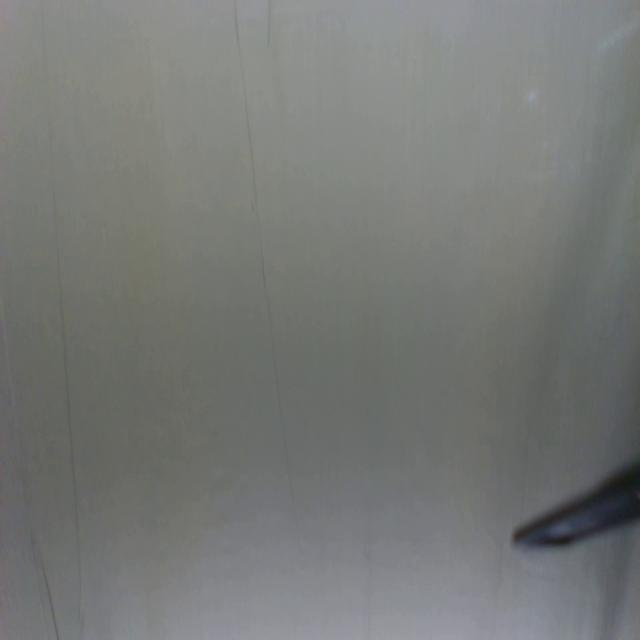crease: (232, 1, 300, 532), (43, 3, 86, 633), (0, 287, 59, 640)
